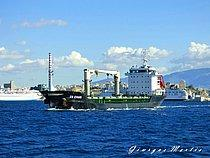Ship: (39, 67, 169, 111)
